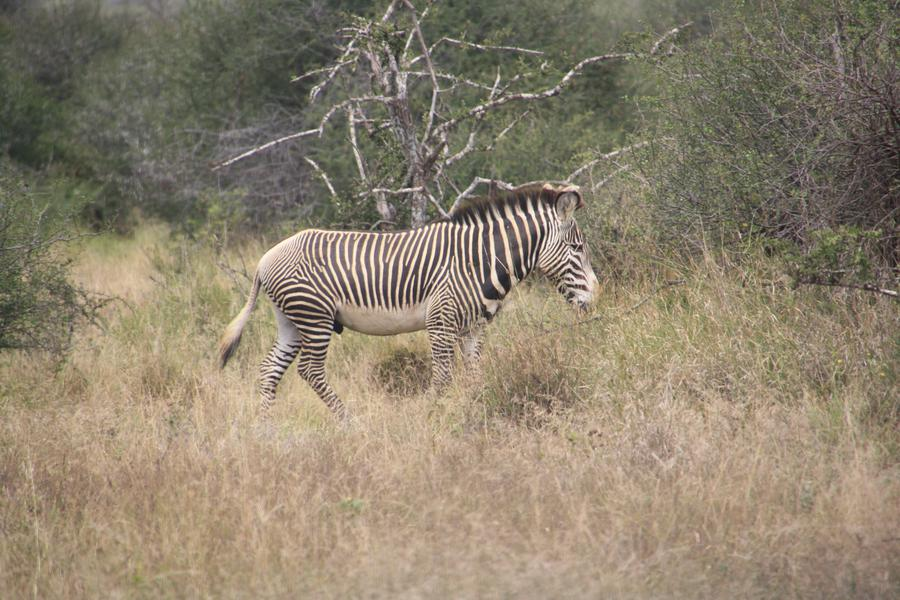zebra_grevys: (251, 219, 480, 328)
